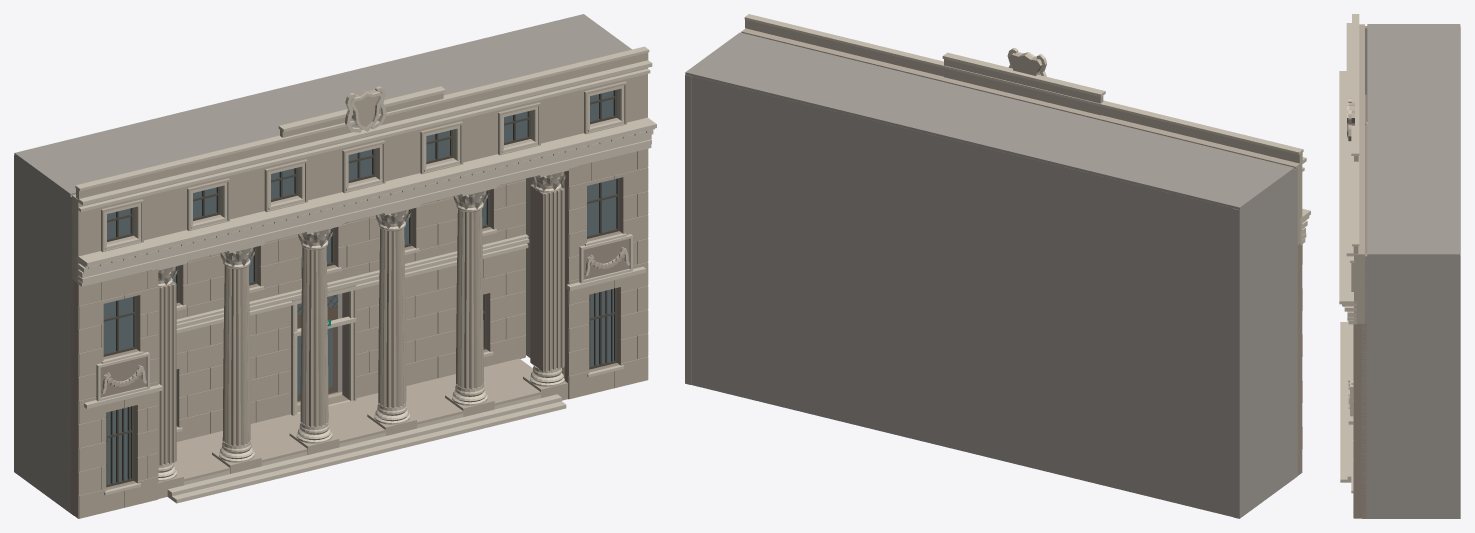
The model's file is huangpu-bankers-association-building-lod.glb.
The picture shows the model from 3 angles, left to right: view 1: azimuth 30°, elevation 25°; view 2: azimuth 150°, elevation 25°; view 3: azimuth 270°, elevation 25°; orthographic projection. The views are drawn at different scales.
Visible parts, largest first — view 1: 银行公会大楼（香港路五开间柱廊）; view 2: 银行公会大楼（香港路五开间柱廊）; view 3: 银行公会大楼（香港路五开间柱廊）.
Boxes of the visible parts, x1,y1,x2,y2 form: 银行公会大楼（香港路五开间柱廊）: (14, 14, 656, 518); 银行公会大楼（香港路五开间柱廊）: (685, 14, 1310, 518); 银行公会大楼（香港路五开间柱廊）: (1339, 14, 1460, 518).
Size of the model in its own units: 21.54 by 13.06 by 4.81.
